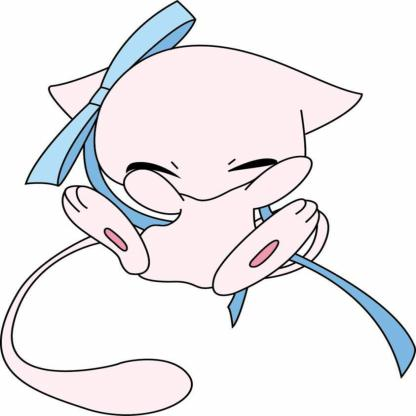Mew: (1, 39, 400, 416)
